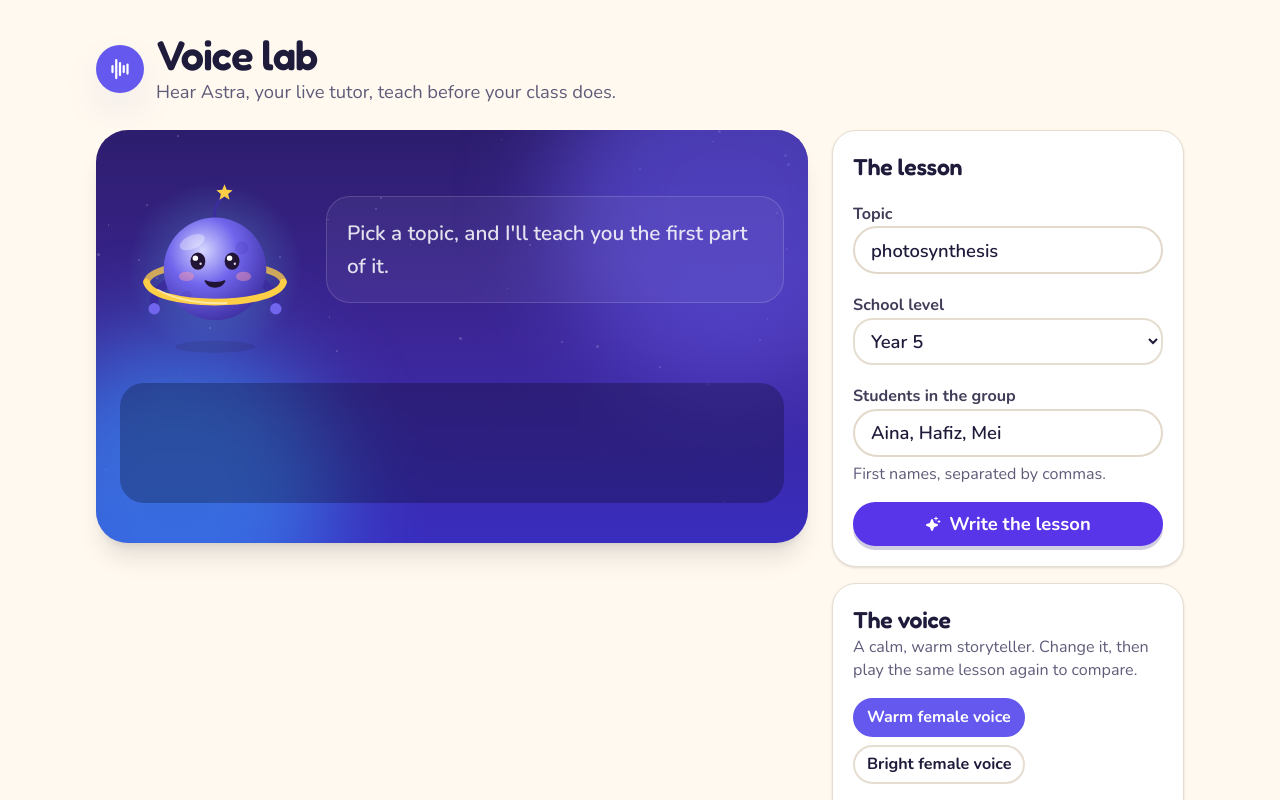
the voice lab › offers the voices and writes a lesson for the topic and students given
Click the button "Write the lesson" at (1008, 524), box [853, 502, 1163, 546]
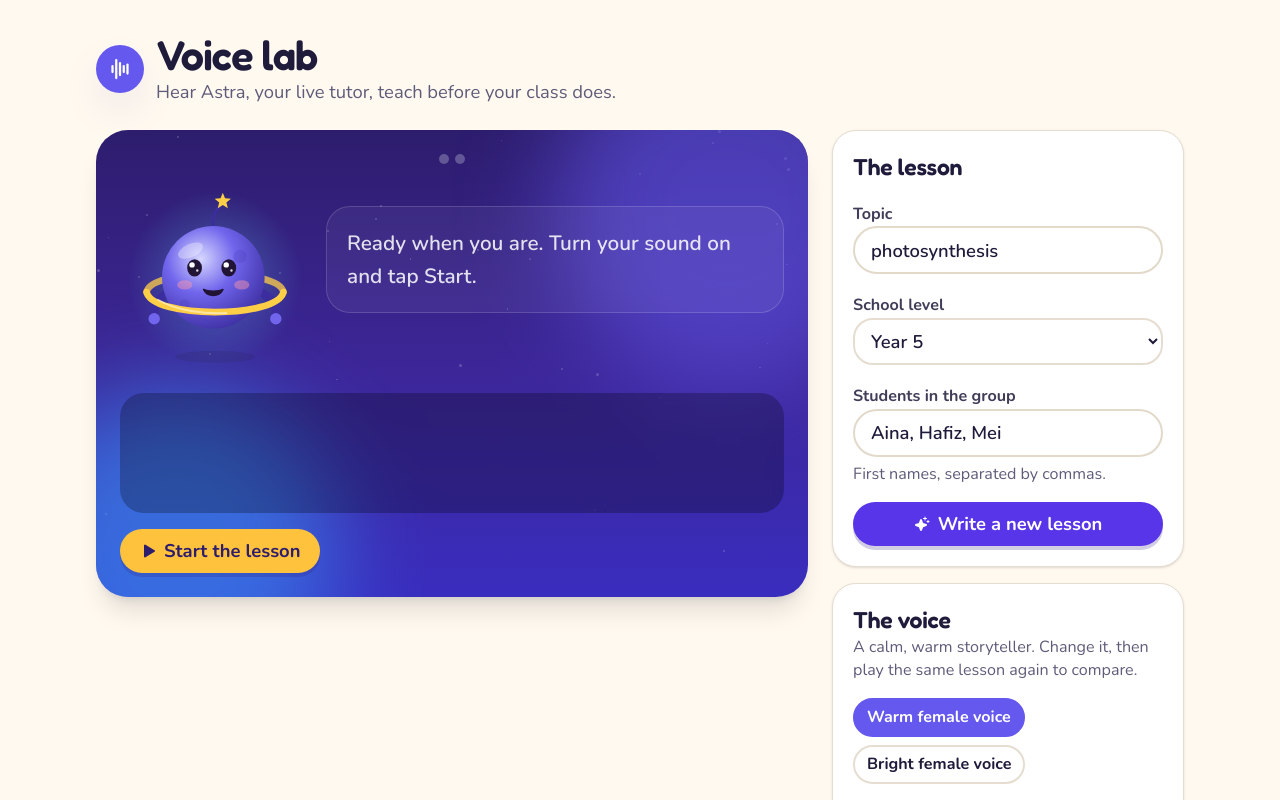
Result: the button "Start the lesson" is shown at [120, 529, 320, 573]
